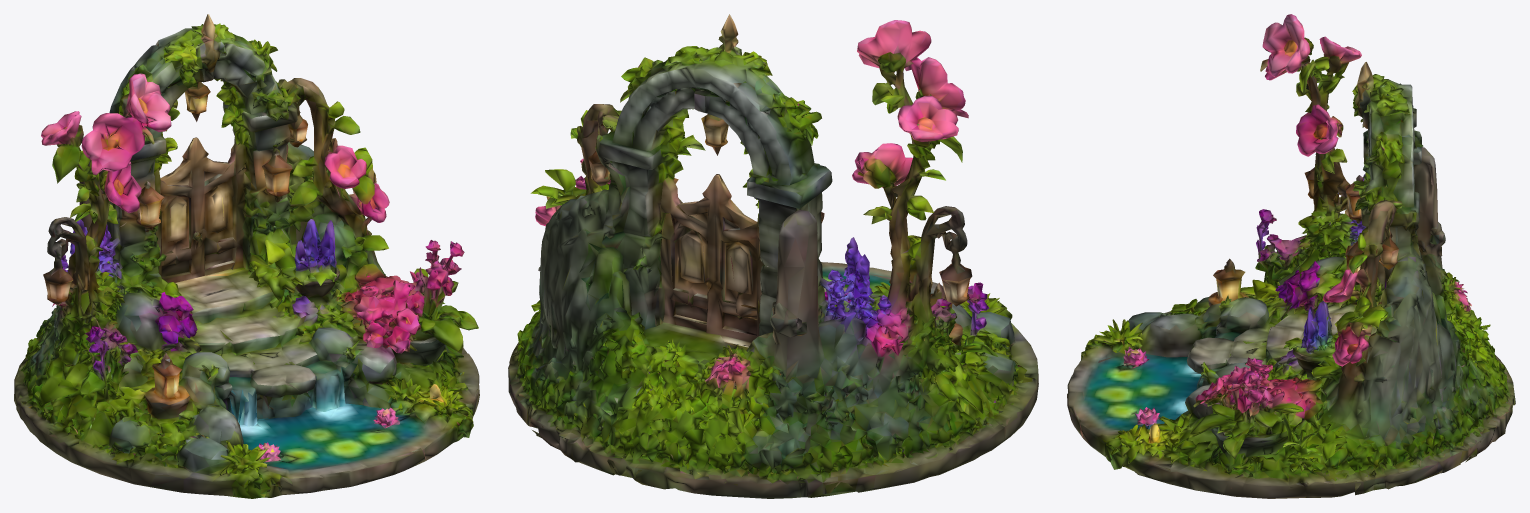
File: Enchanted_Garden_Gate.glb
3 views of the same model, side by side, from view 1: azimuth 30°, elevation 25°; view 2: azimuth 150°, elevation 25°; view 3: azimuth 270°, elevation 25° (orthographic). The views are drawn at different scales.
Parts seen in each view (by area): view 1: Enchanted_Garden_Gate; view 2: Enchanted_Garden_Gate; view 3: Enchanted_Garden_Gate.
Part boxes in pixels (<box>): Enchanted_Garden_Gate: <box>14,14,479,498</box>; Enchanted_Garden_Gate: <box>508,14,1038,498</box>; Enchanted_Garden_Gate: <box>1067,14,1515,498</box>.
Size of the model in its own units: 1.9 by 1.61 by 1.89.
Materials: 1 (1 with a texture image).
